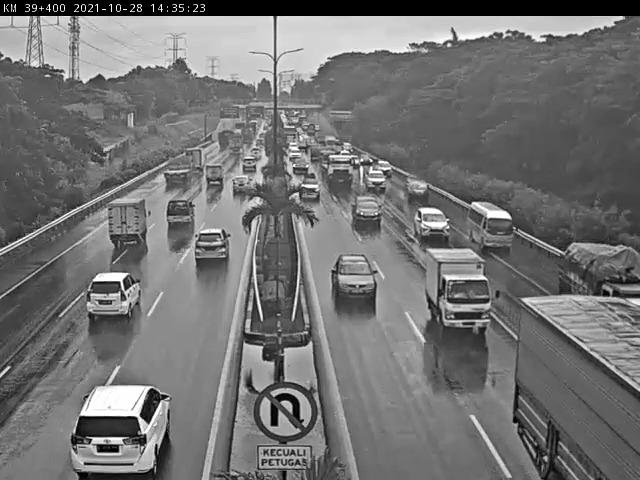big truck: (511, 285, 640, 480), (76, 267, 147, 329), (321, 158, 356, 196)
car: (63, 376, 180, 480), (105, 194, 154, 247), (333, 254, 378, 309), (161, 195, 200, 236), (190, 227, 230, 264), (412, 209, 453, 245), (293, 170, 326, 202), (349, 194, 383, 225), (362, 161, 388, 192), (401, 175, 432, 198), (200, 160, 226, 187), (229, 175, 254, 200), (242, 157, 258, 175)
small bus: (466, 198, 518, 249)
small truck: (536, 232, 640, 297), (416, 246, 491, 332), (162, 151, 195, 188)
